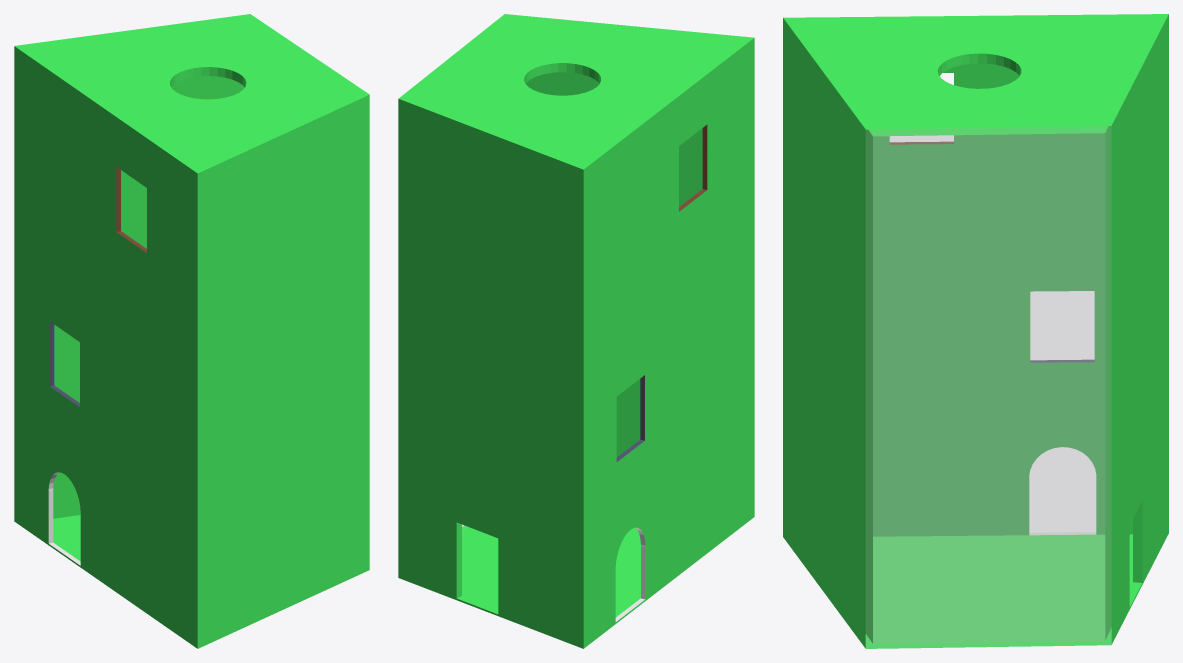
Rendered from Stair Building.fbx.
3 renders of one model, left to right at view 1: azimuth 30°, elevation 25°; view 2: azimuth 150°, elevation 25°; view 3: azimuth 270°, elevation 25°, orthographic. The views are drawn at different scales.
Visible parts, largest first — view 1: !Physbox Mesh (1) (×2), statue Mesh (1), black Mesh (1); view 2: !Physbox Mesh (1) (×2), bright brown Mesh (1); view 3: !Physbox Mesh (1) (×2), transparency Mesh (1).
Boxes of the visible parts, left/top/right/bottom form: !Physbox Mesh (1) (×2): left=14, top=14, right=369, bottom=648; statue Mesh (1): left=48, top=472, right=80, bottom=565; black Mesh (1): left=49, top=321, right=79, bottom=407; !Physbox Mesh (1) (×2): left=398, top=14, right=754, bottom=648; bright brown Mesh (1): left=679, top=124, right=707, bottom=211; !Physbox Mesh (1) (×2): left=783, top=14, right=1168, bottom=648; transparency Mesh (1): left=866, top=126, right=1111, bottom=648.
Bounding box in the file's own units: 33.06 × 69.25 × 46.63.
